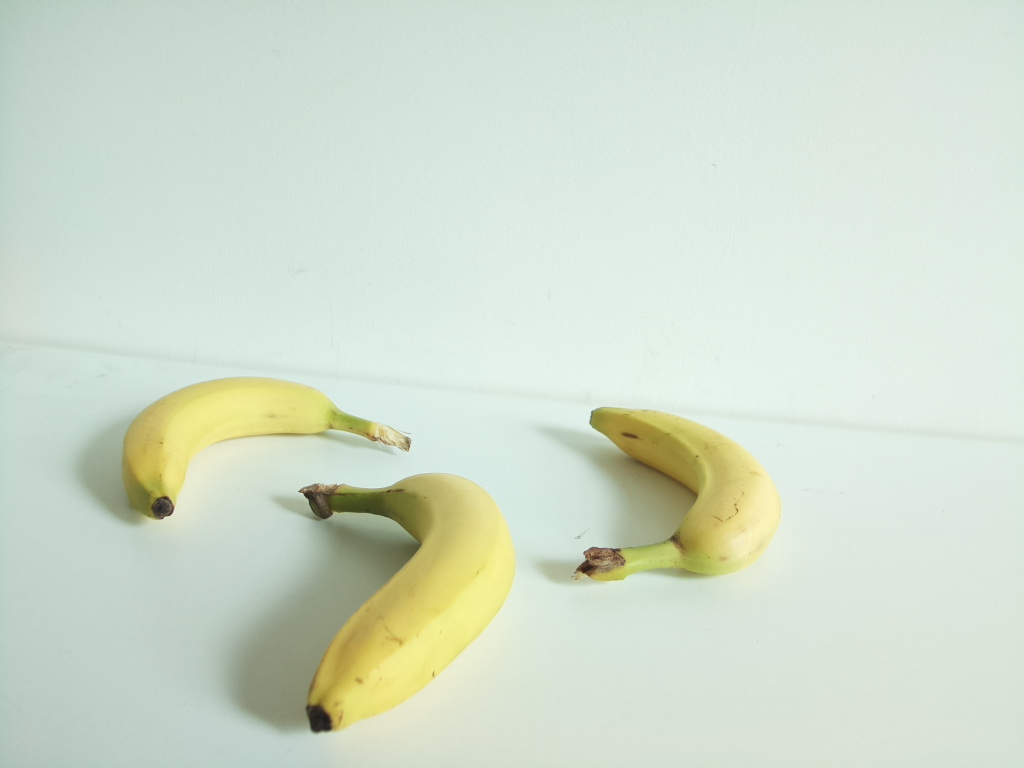banana: (301, 470, 512, 735), (122, 375, 412, 521), (568, 410, 777, 582)
